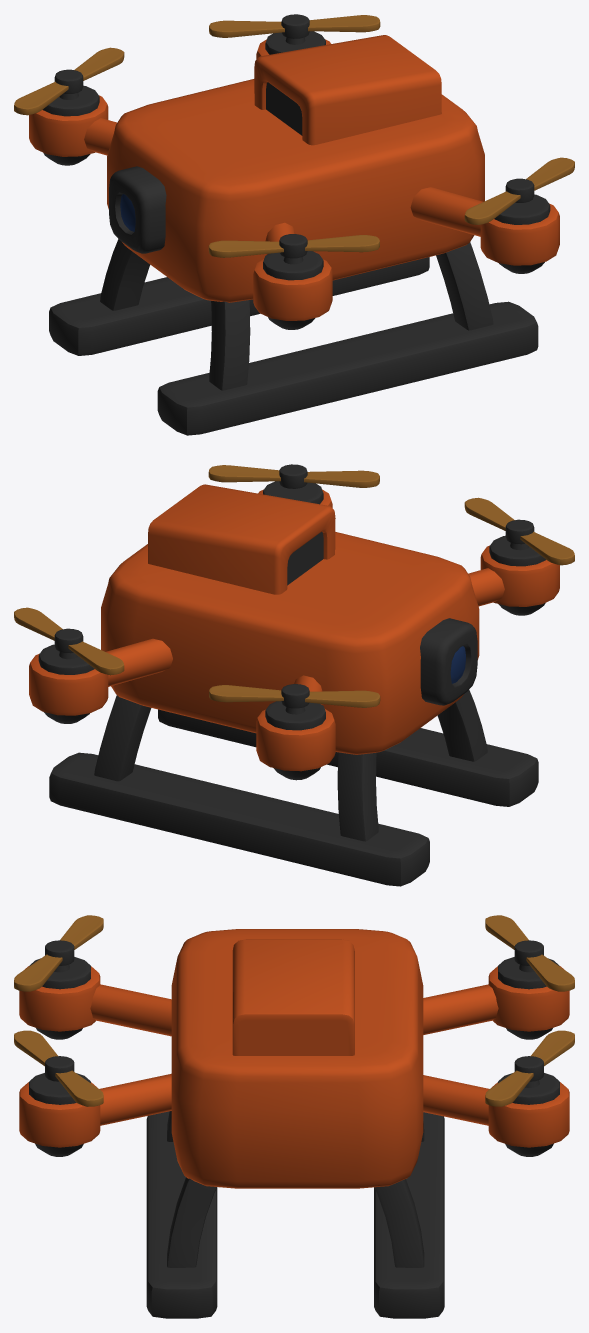
The model's file is Drone.FBX.
3 views of the same model, one above another, from view 1: azimuth 30°, elevation 25°; view 2: azimuth 150°, elevation 25°; view 3: azimuth 270°, elevation 25° (orthographic). The views are drawn at different scales.
Visible parts, largest first — view 1: Drone; view 2: Drone; view 3: Drone.
Boxes of the visible parts, left/top/right/bottom form: Drone: left=14, top=14, right=574, bottom=435; Drone: left=14, top=464, right=574, bottom=886; Drone: left=14, top=915, right=574, bottom=1318.
Size of the model in its own units: 52.9 by 37.9 by 67.68.
